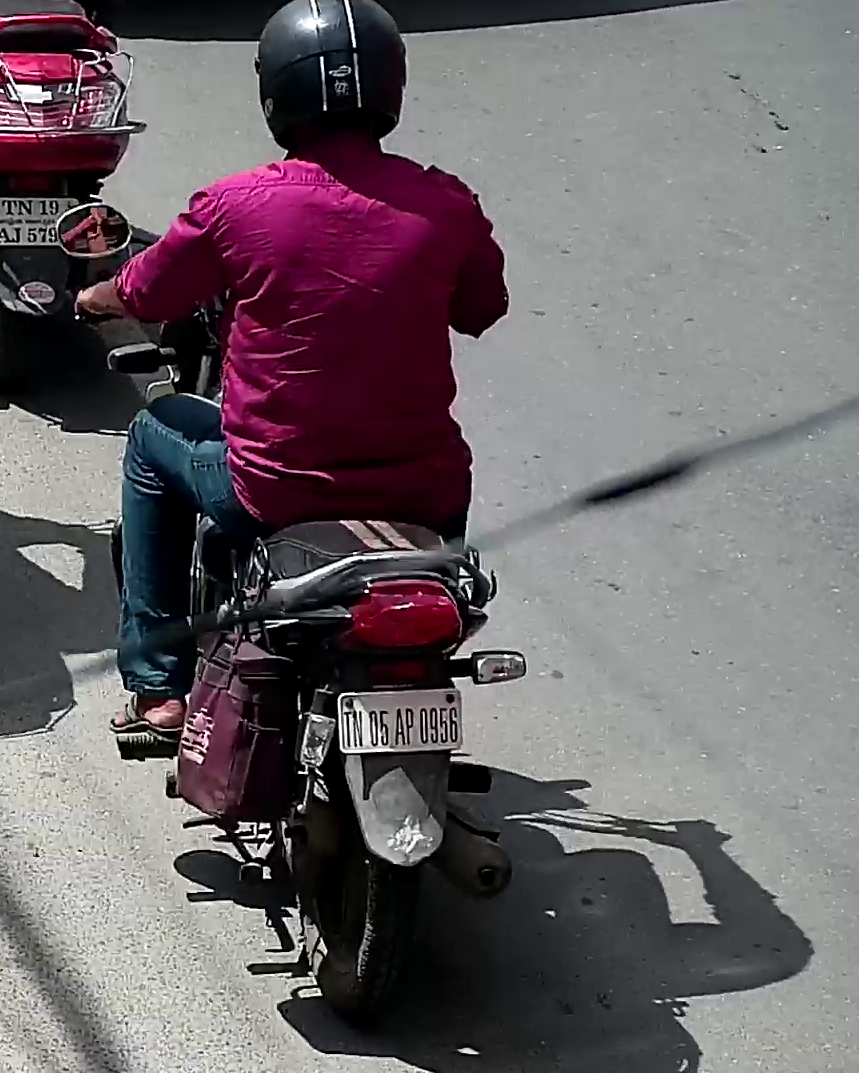0: (418, 707, 429, 744), (368, 709, 378, 747)
5: (378, 709, 389, 746), (439, 707, 448, 744)
6: (449, 706, 458, 743)
9: (429, 707, 438, 744)
A: (394, 708, 405, 746)
N: (352, 709, 364, 748)
P: (405, 708, 414, 746)
P7: (337, 687, 464, 756)
T: (343, 711, 352, 748)
